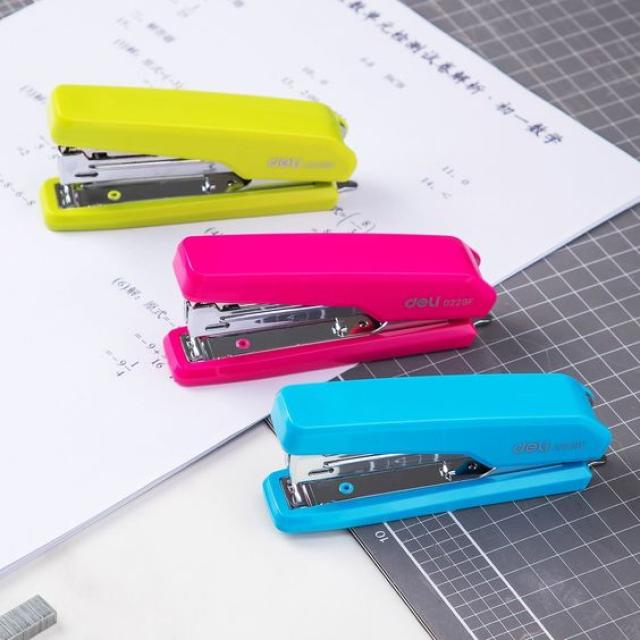Stapler: (15, 71, 362, 231)
